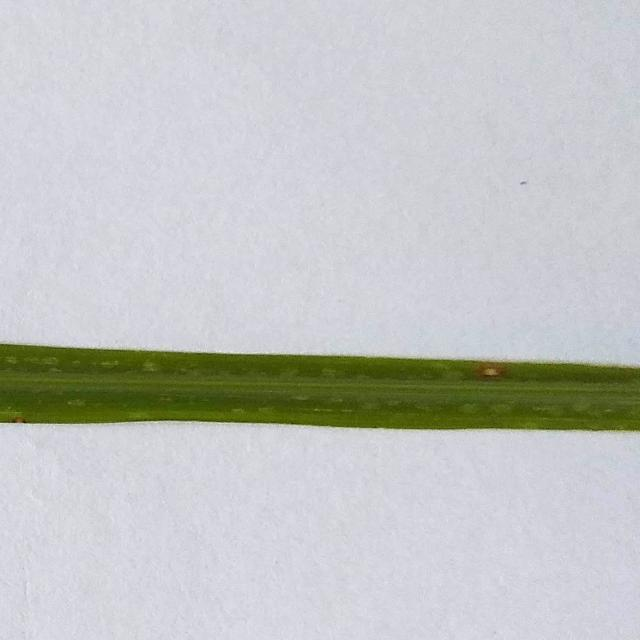Blast: (479, 366, 507, 378)
